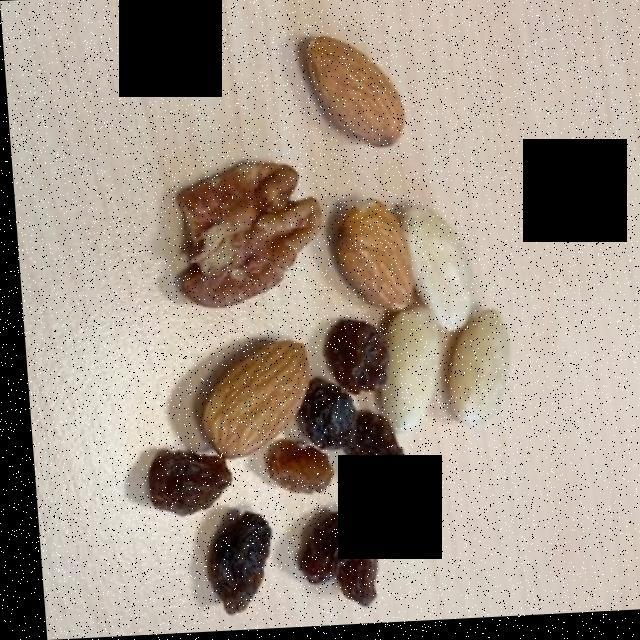raisins: (146, 333, 397, 613)
